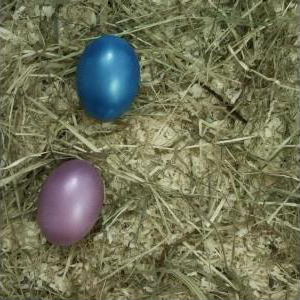egg: (35, 160, 105, 245), (76, 36, 141, 121)
